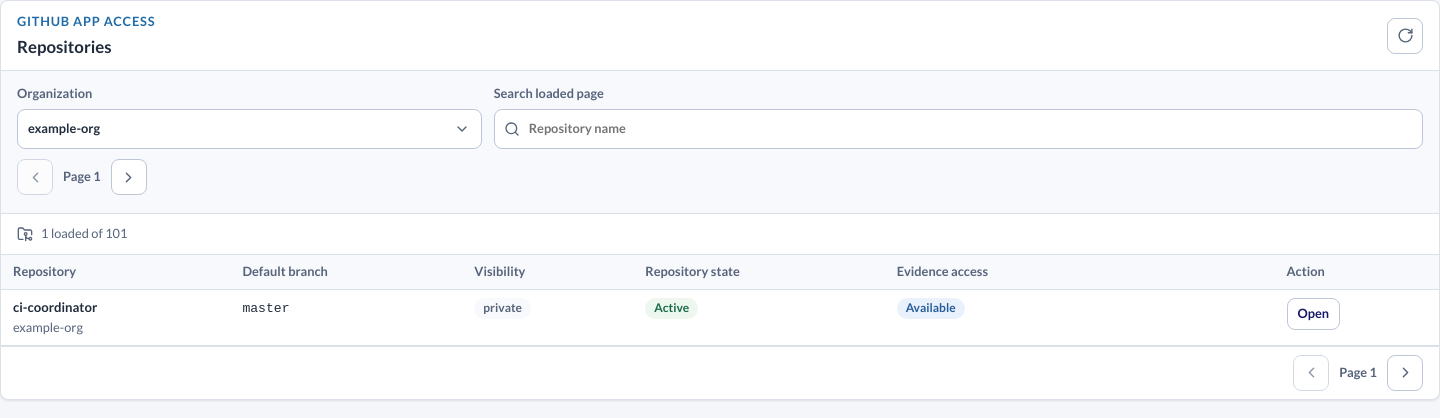
Scenario: first-page controls use independent continuations: org=true repo=true
Expected: the text "ci-coordinator" is shown, [13,299,97,315]
Expected: the button named "Previous" is disabled, [17,159,53,195]
Type "not-on-this-page" into the search field at (958,129), box [494,109,1423,149]
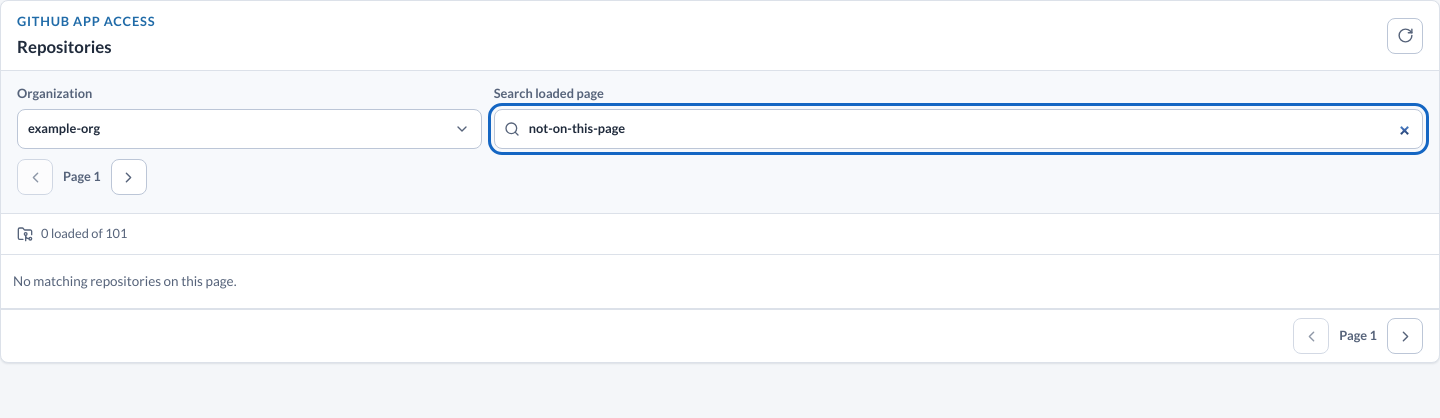
Expected: the button named "Previous organization page" is disabled, [17,159,53,195]
Result: the text "No matching repositories on this page." is shown at [1,255,1439,309]
